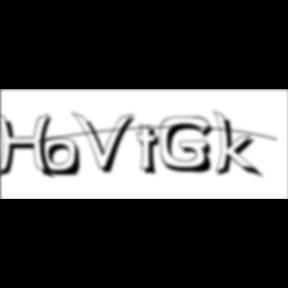G: (160, 116, 220, 176)
H: (1, 112, 60, 182)
V: (73, 110, 140, 176)
k: (214, 108, 266, 181)
o: (42, 137, 84, 179)
t: (136, 124, 168, 179)
